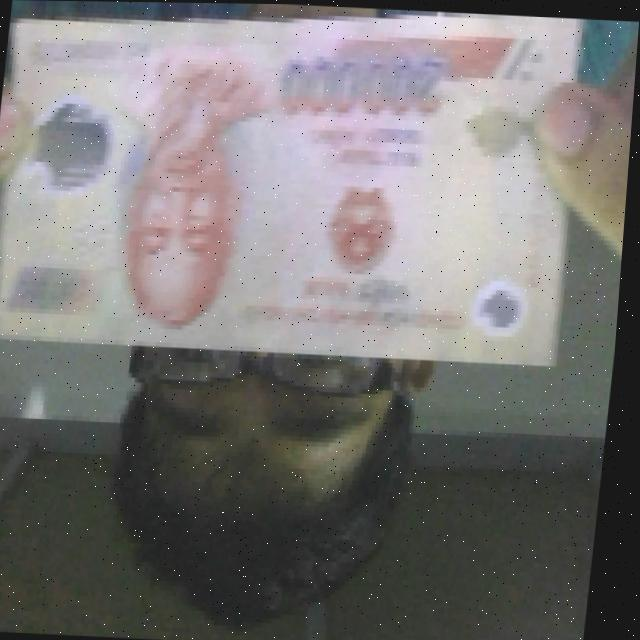200 000 VND: (0, 0, 600, 373)
